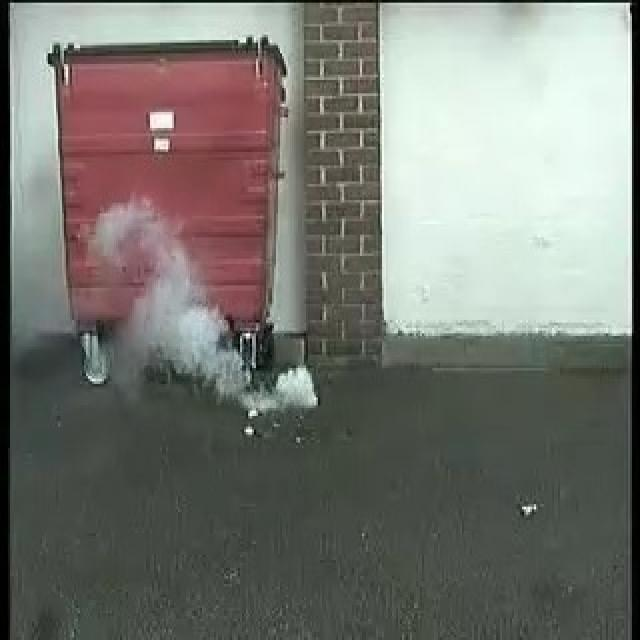smoke: (91, 205, 319, 412)
